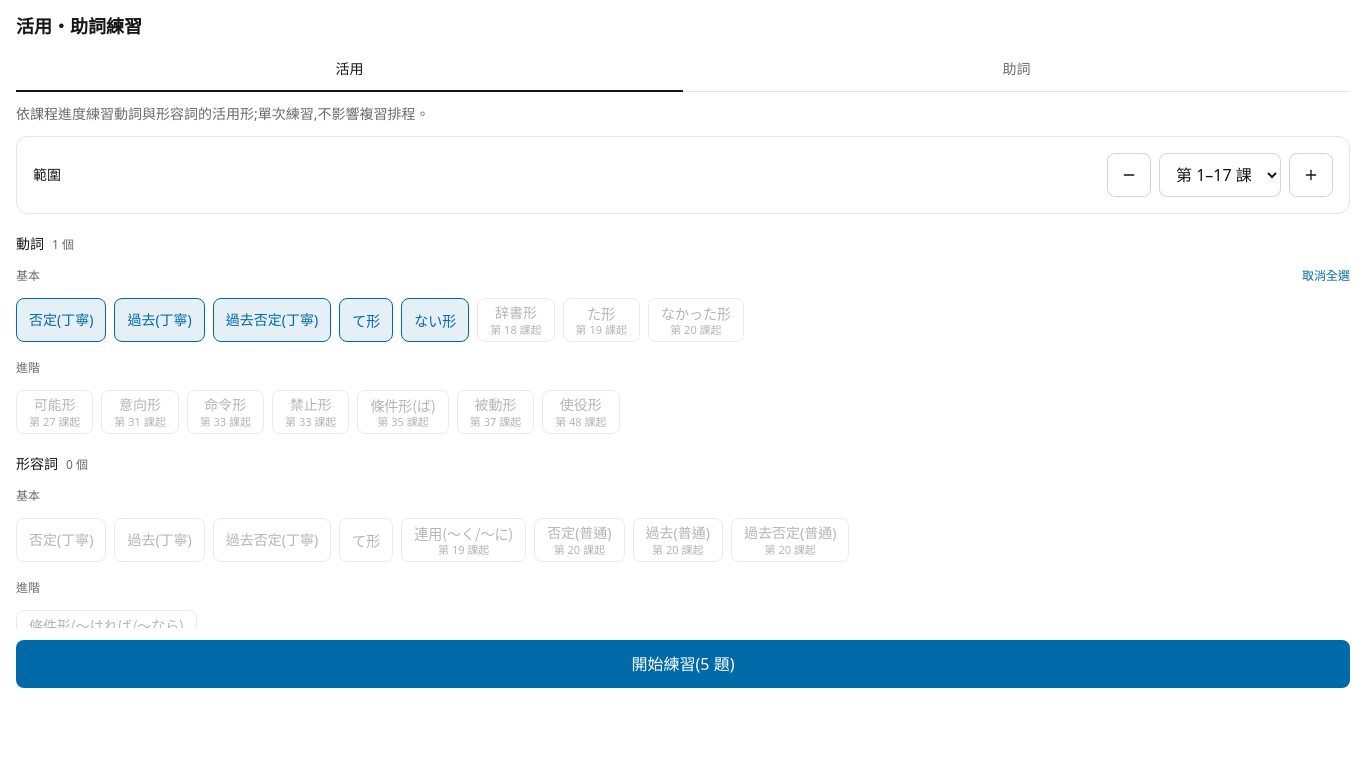
it: DrillPage 設定:範圍 › ?upto= 優先於卡片(課程頁的連結);可以 −/+ 與選單調整,調整後不再顯示預設說明
Check: the dropdown labelled "範圍" shows "第 1–17 課", box [1159,153,1281,197]
Click the button named "範圍增加一課".
click(1311, 175)  # box [1289,153,1333,197]
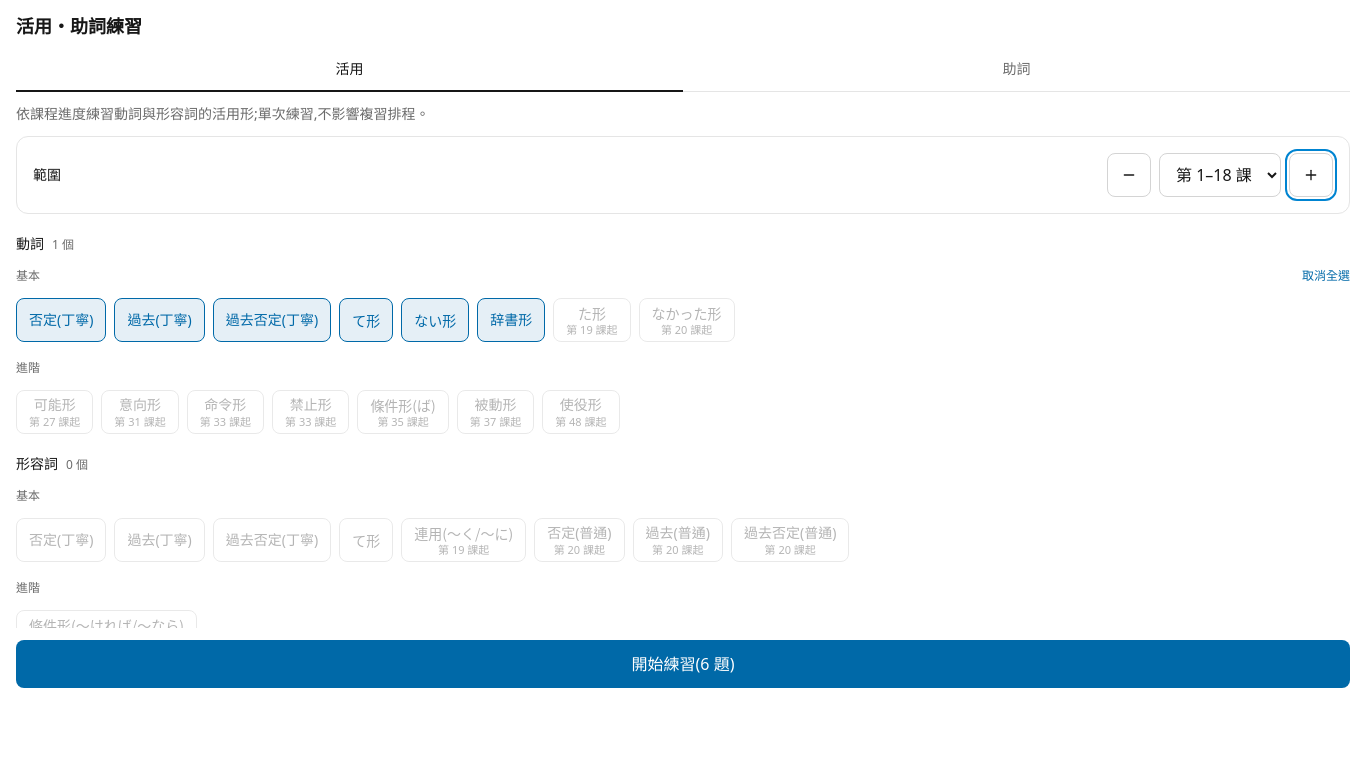
Check: the dropdown labelled "範圍" shows "第 1–18 課"
Select "第 1–3 課" in the dropdown labelled "範圍" at (1220, 175), box [1159,153,1281,197]
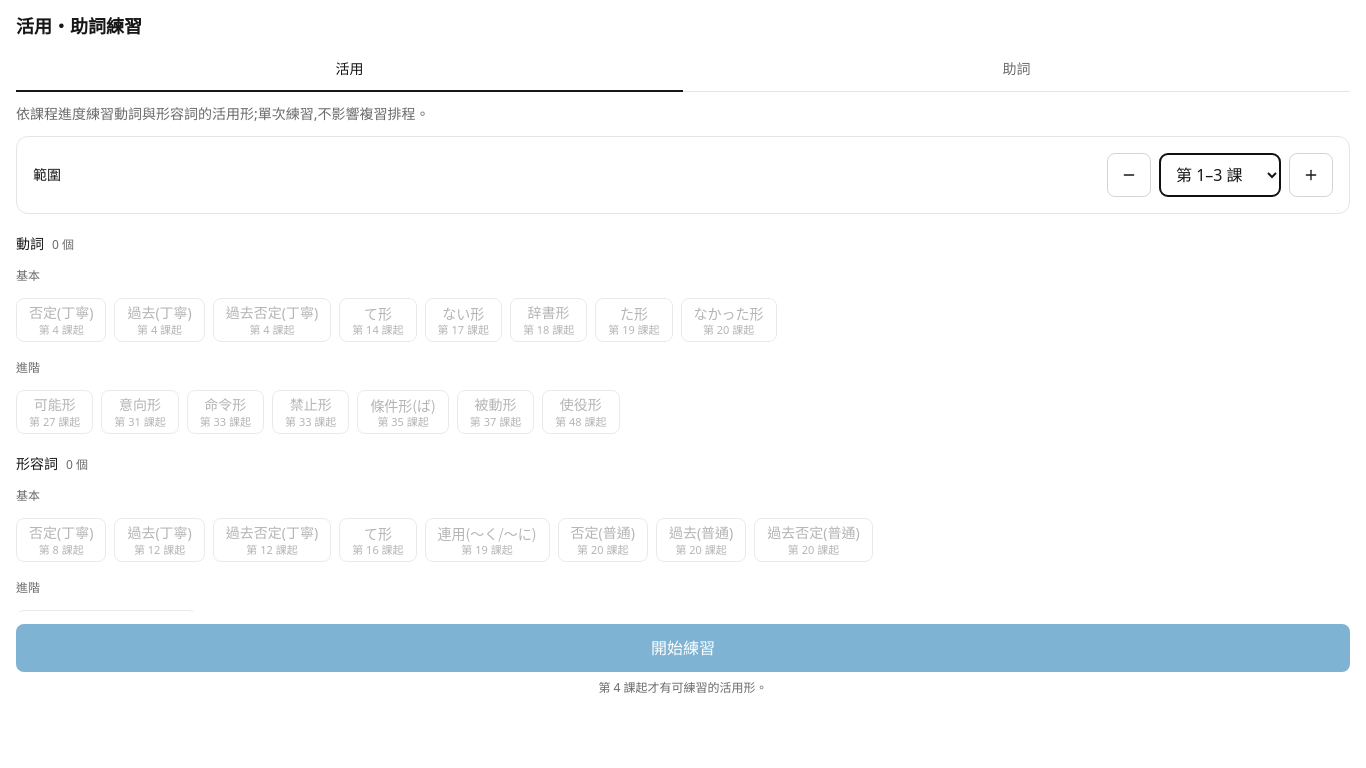
Check: the text "第 4 課起才有可練習的活用形。" is shown, box [598,679,768,696]
Check: the button "開始練習" is disabled, box [16,624,1350,672]
